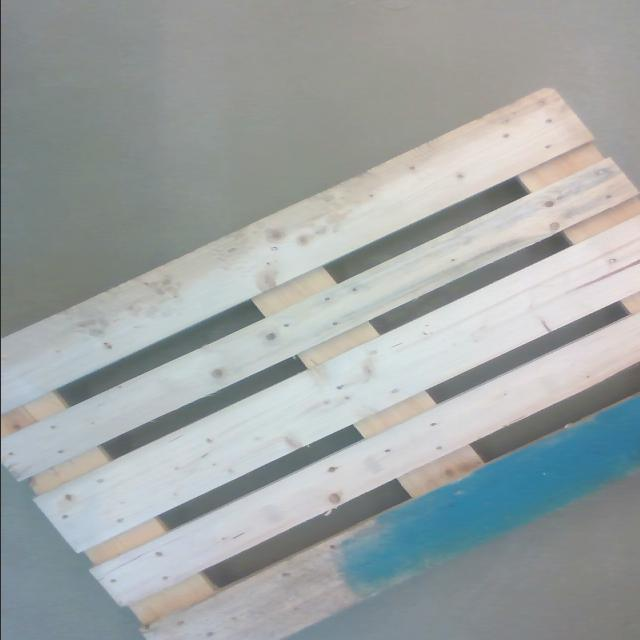pallet: (0, 84, 640, 640)
